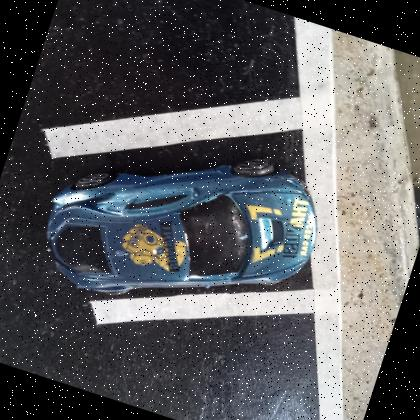Car: (46, 156, 317, 296)
